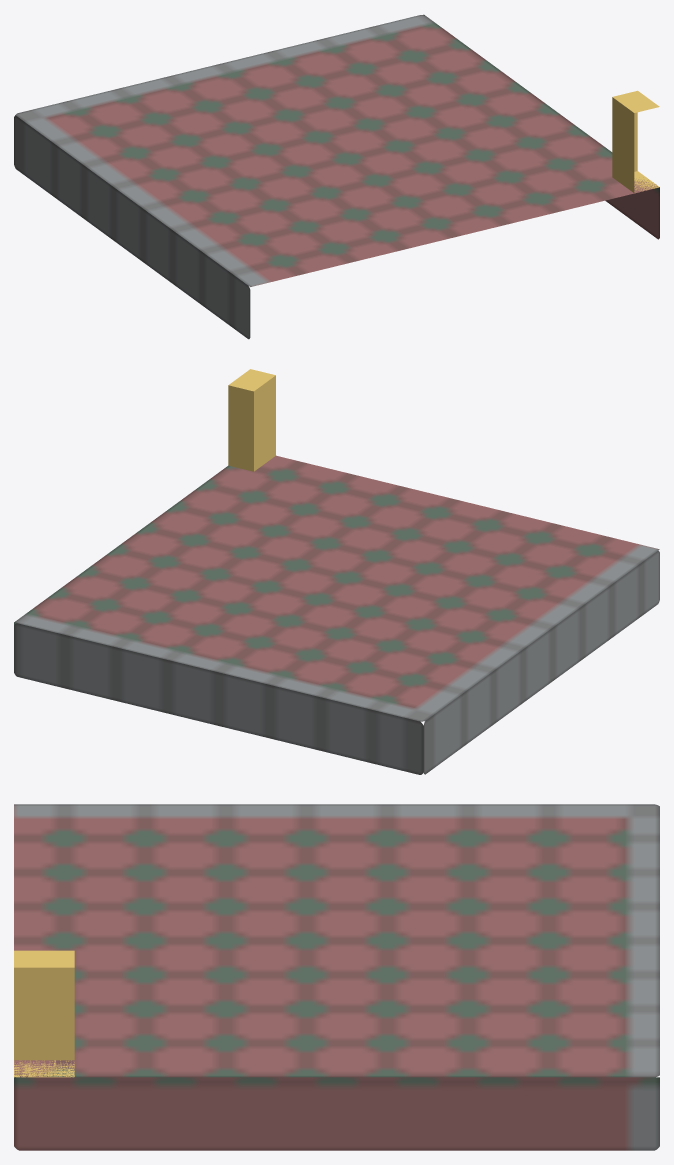
File: Park Wall Corner.fbx
3 views of the same model, one above another, from view 1: azimuth 30°, elevation 25°; view 2: azimuth 150°, elevation 25°; view 3: azimuth 270°, elevation 25° (orthographic). The views are drawn at different scales.
Visible parts, largest first — view 1: SideRoad, cuboid; view 2: SideRoad, cuboid; view 3: SideRoad, cuboid.
Boxes of the visible parts, x1,y1,x2,y2 form: SideRoad: [14, 14, 659, 339]; cuboid: [612, 90, 659, 193]; SideRoad: [14, 455, 659, 774]; cuboid: [228, 369, 275, 471]; SideRoad: [14, 804, 659, 1150]; cuboid: [14, 950, 74, 1077].
Bounding box in the file's own units: 200 × 62.5 × 200.
Materials: 2 (2 with a texture image).
